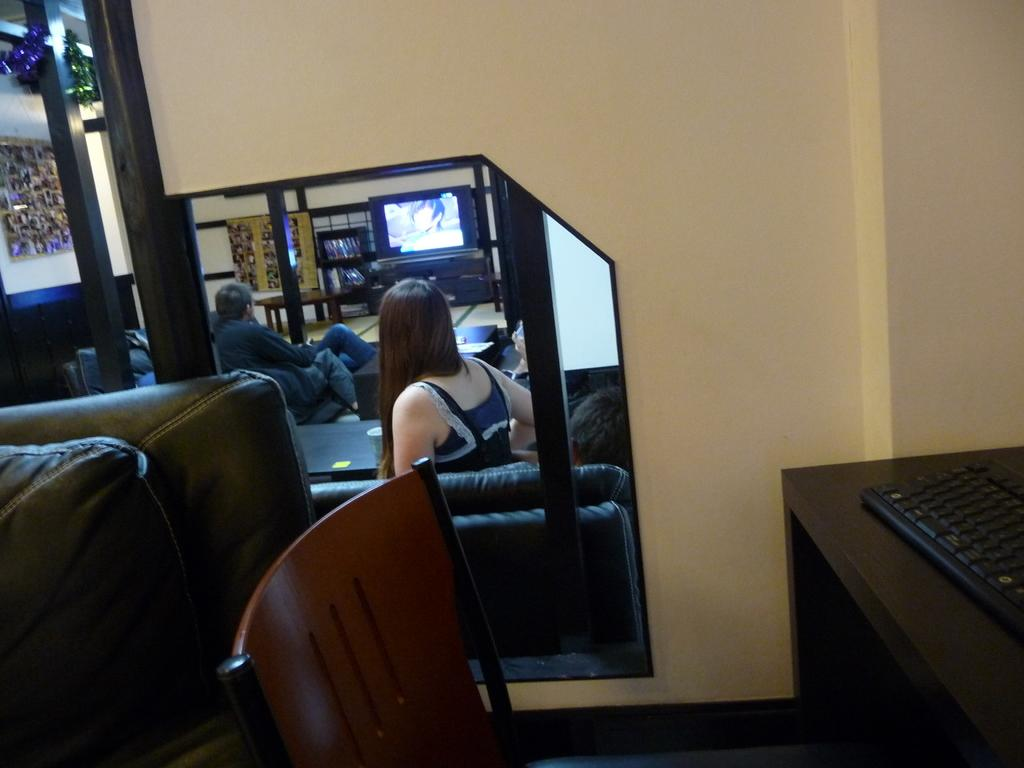Computer-keyboard: (861, 459, 1023, 645)
